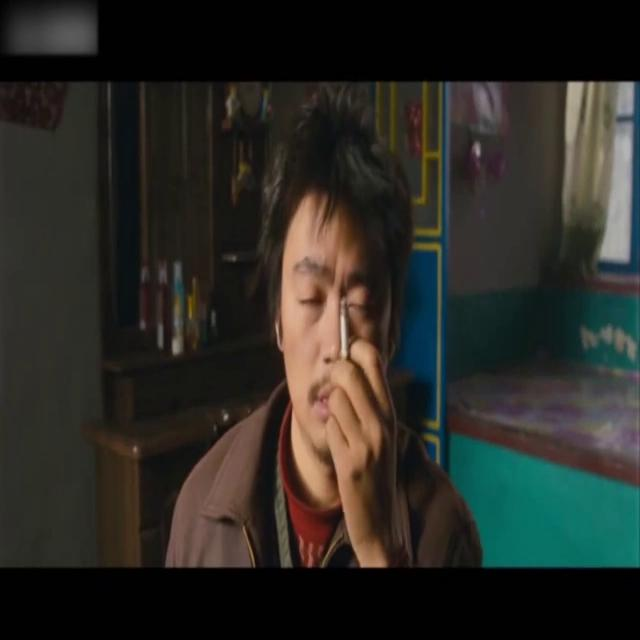smoking: (339, 296, 349, 362)
